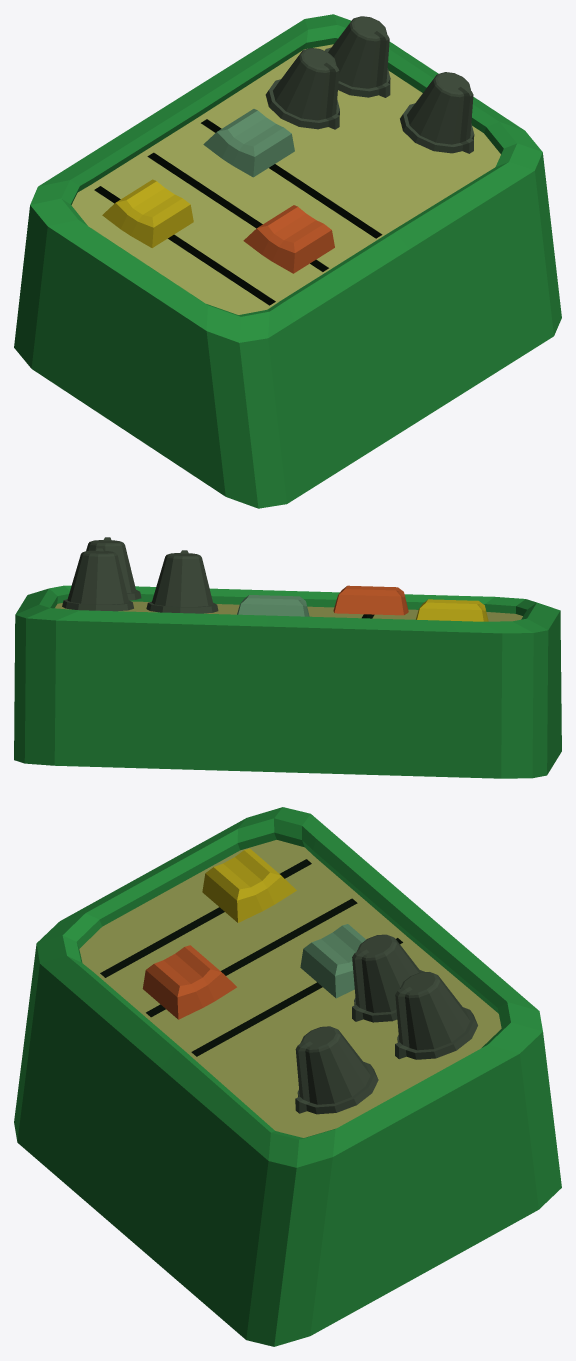
File: AudioMixer_low.fbx
3 renders of one model, top to bottom at view 1: azimuth 30°, elevation 25°; view 2: azimuth 150°, elevation 25°; view 3: azimuth 270°, elevation 25°, orthographic. The views are drawn at different scales.
Visible parts, largest first — view 1: AudioMixer_low; view 2: AudioMixer_low; view 3: AudioMixer_low.
Boxes of the visible parts, bbox=[...] form: AudioMixer_low: bbox=[14, 14, 561, 508]; AudioMixer_low: bbox=[14, 537, 561, 778]; AudioMixer_low: bbox=[14, 807, 561, 1346].
Bounding box in the file's own units: 735 × 370 × 599.
